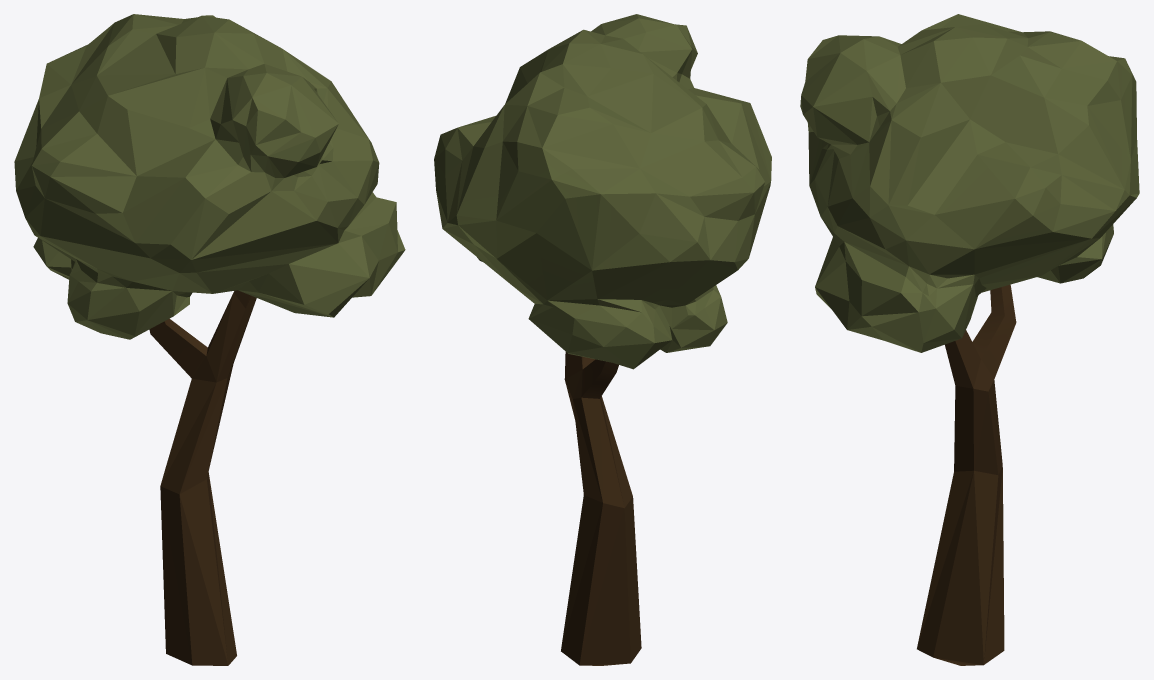
Rendered from Arbol-1.FBX.
3 views of the same model, side by side, from view 1: azimuth 30°, elevation 25°; view 2: azimuth 150°, elevation 25°; view 3: azimuth 270°, elevation 25° (orthographic). The views are drawn at different scales.
Parts seen in each view (by area): view 1: Arbol-2; view 2: Arbol-2; view 3: Arbol-2.
Boxes of the visible parts, <box> form: Arbol-2: <box>14,14,405,665</box>; Arbol-2: <box>434,14,771,665</box>; Arbol-2: <box>800,14,1139,665</box>.
Bounding box in the file's own units: 377 × 689 × 330.
1 material, 1 textured.
